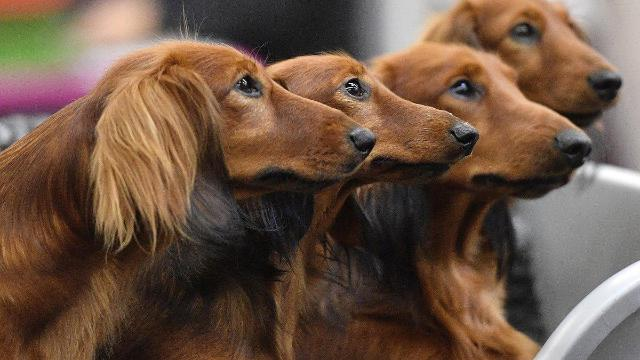dog: (2, 41, 374, 358), (384, 42, 592, 198), (266, 48, 480, 190)
